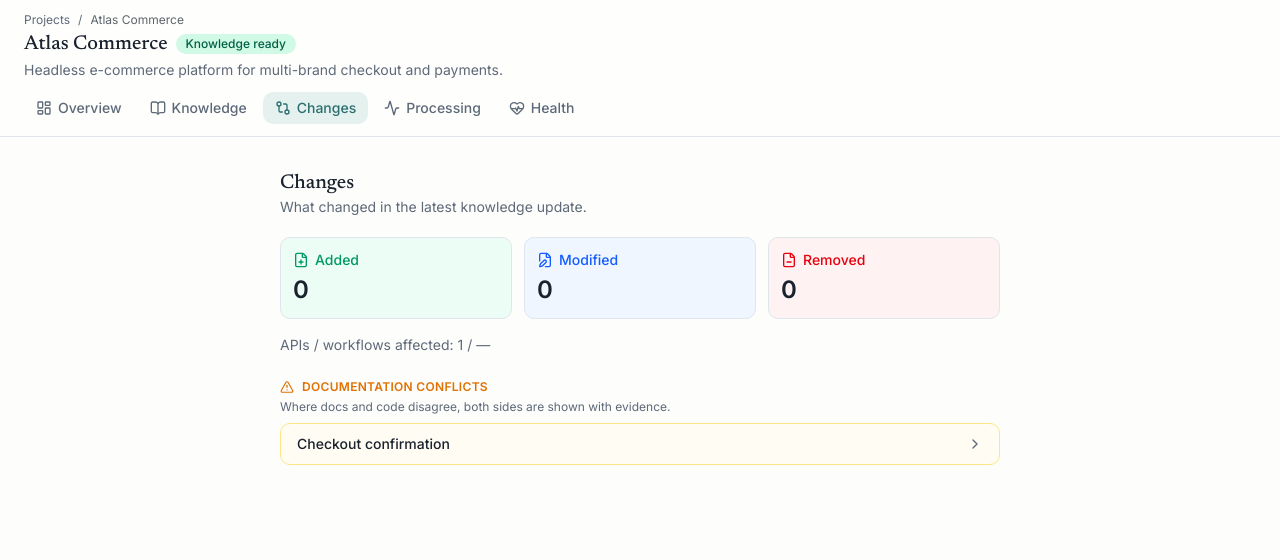
Test case: ChangesPanel › toggles a conflict when the API returns one
Check: the text "Checkout confirmation" is shown, box top-left (297, 434), bottom-right (450, 454)
Check: the text "APIs / workflows affected: 1 / —" is shown, box top-left (280, 336), bottom-right (490, 353)
Step 1. Click the button "Checkout confirmation" → (373, 444), box top-left (281, 424), bottom-right (999, 464)
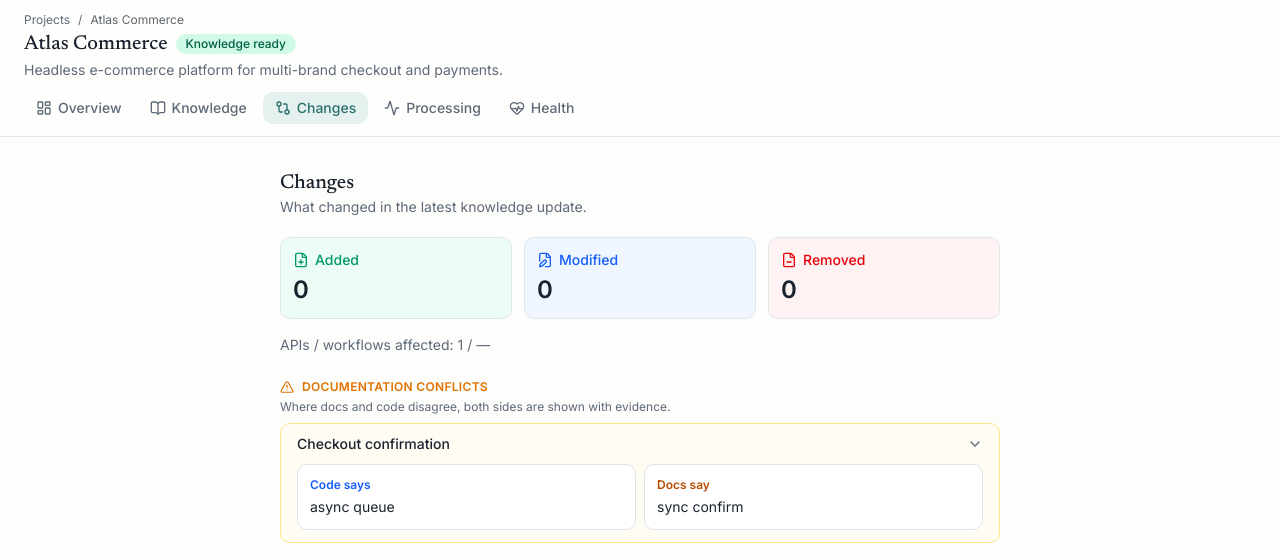
Check: the text "Code says" is shown, box top-left (310, 477), bottom-right (371, 492)
Check: the text "async queue" is shown, box top-left (310, 498), bottom-right (395, 515)
Step 2. Click the button "Checkout confirmation" → (373, 444), box top-left (281, 424), bottom-right (999, 464)
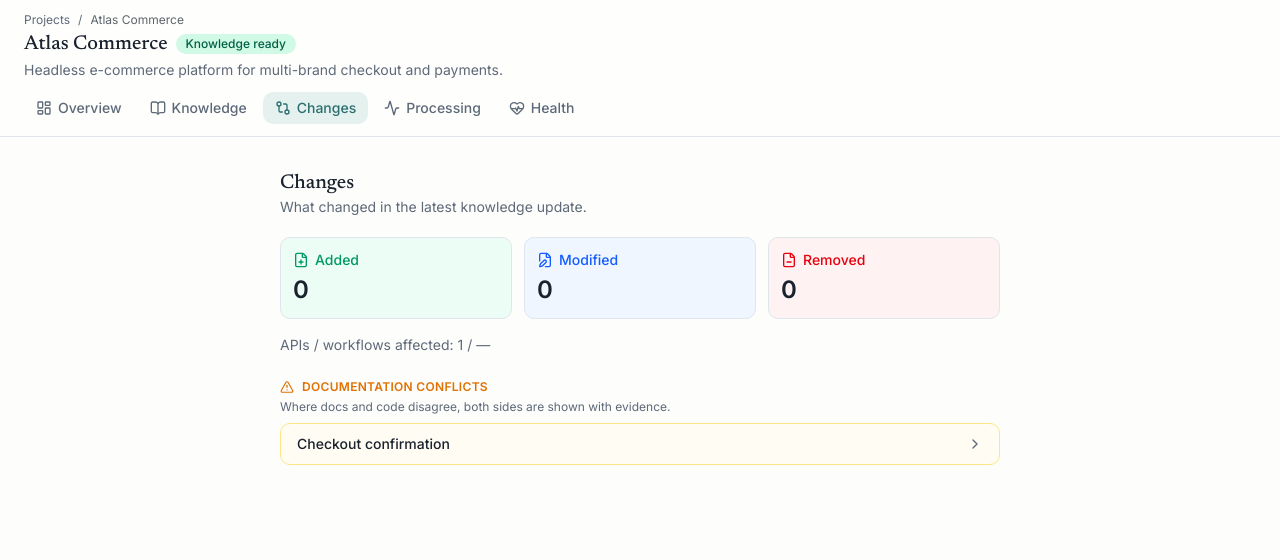
Check: the text "Code says" is gone
